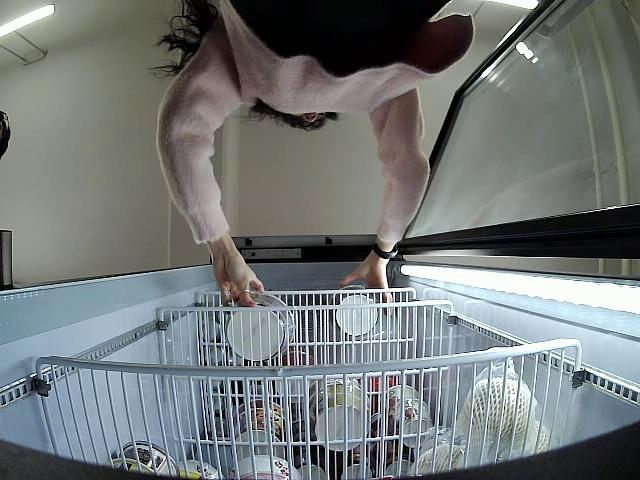00_hand: (342, 257, 393, 317), (214, 261, 263, 306)
07_buldak_L: (224, 292, 294, 364), (331, 287, 379, 336)
